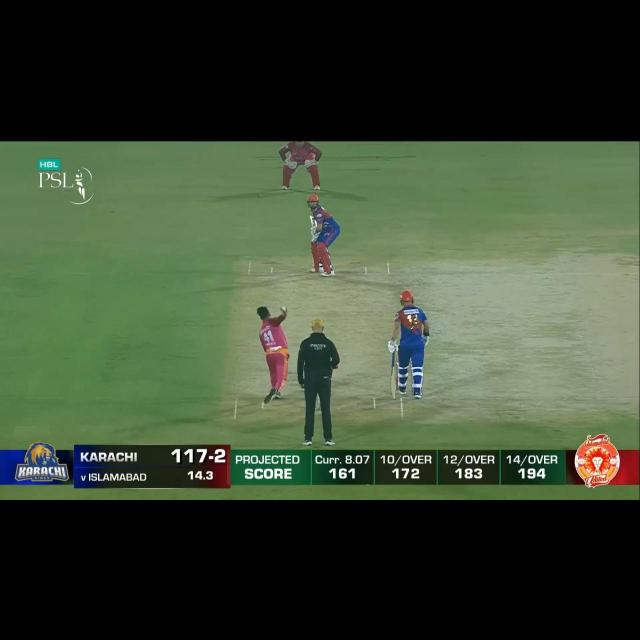bat: (390, 366, 398, 401), (308, 212, 319, 229)
toe: (388, 390, 396, 400), (307, 214, 316, 221)
